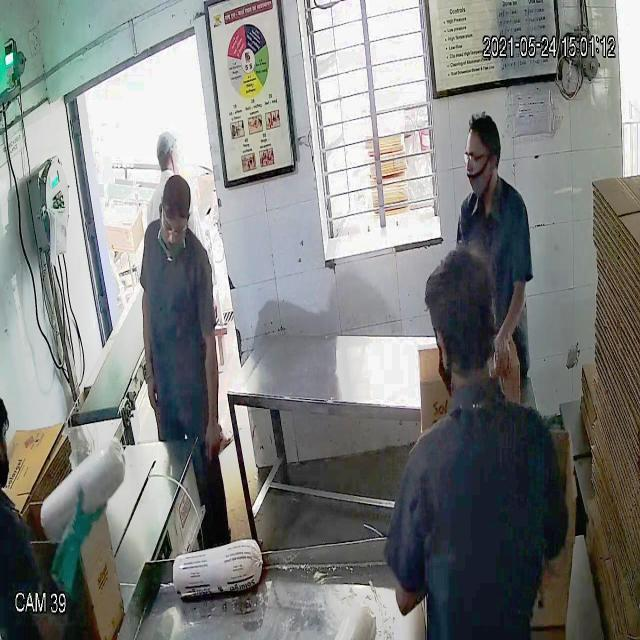glasses: (158, 208, 192, 242), (462, 146, 498, 170)
